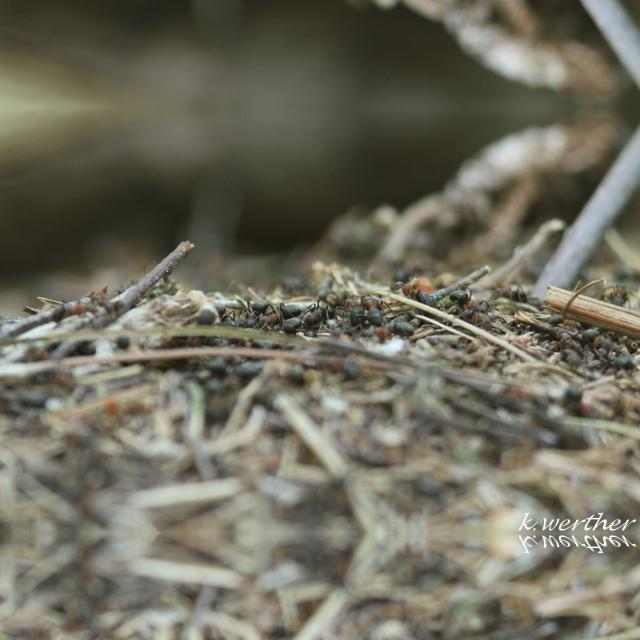Formica: (384, 276, 440, 310), (576, 321, 622, 353), (452, 280, 493, 310), (48, 295, 102, 317), (300, 296, 332, 330), (606, 277, 634, 313), (546, 306, 586, 330), (358, 290, 384, 324), (495, 279, 527, 305), (242, 295, 266, 325), (343, 293, 365, 325), (280, 308, 304, 336), (277, 299, 303, 317)
